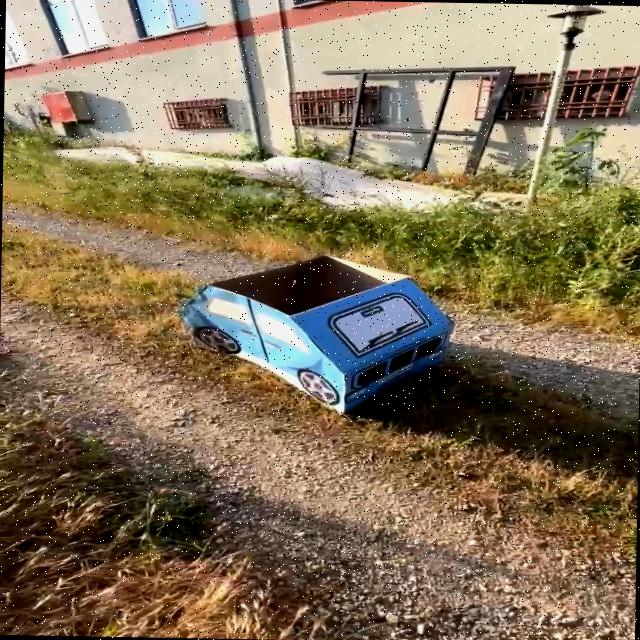blue_car: (99, 239, 494, 455)
